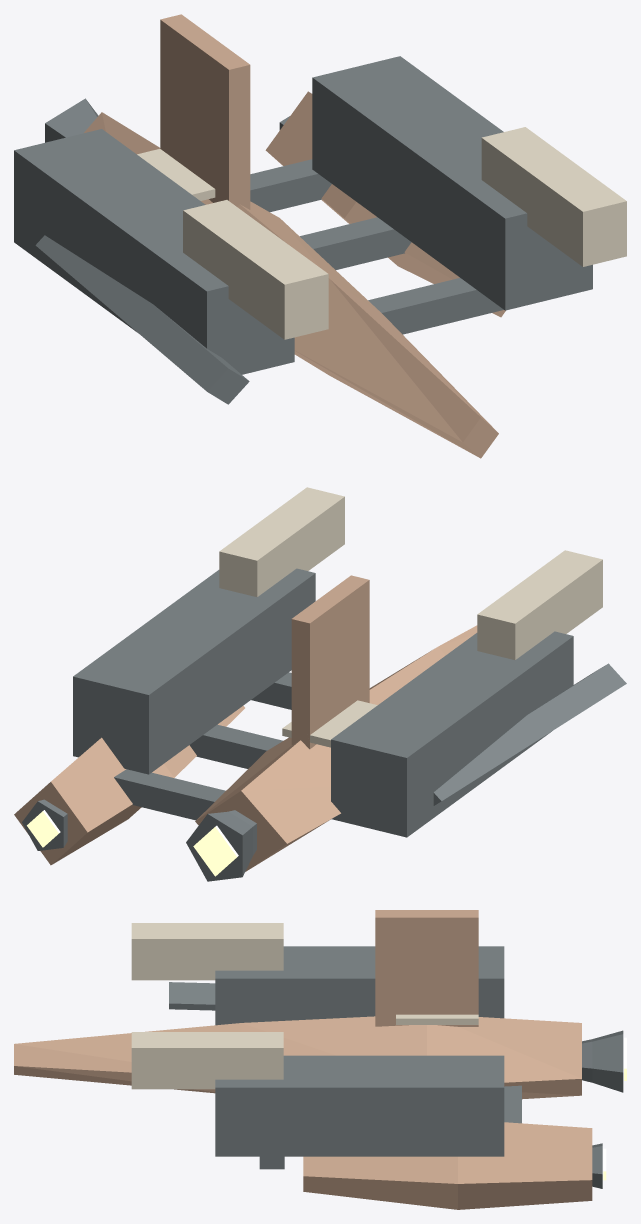
3 renders of one model, top to bottom at view 1: azimuth 30°, elevation 25°; view 2: azimuth 150°, elevation 25°; view 3: azimuth 270°, elevation 25°, orthographic. The views are drawn at different scales.
Size of the model in its own units: 9.94 by 6.33 by 16.12.
